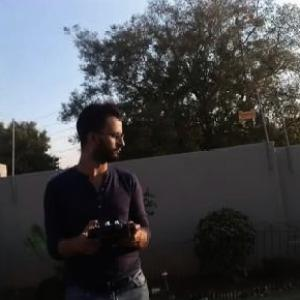follow: (34, 96, 155, 299)
